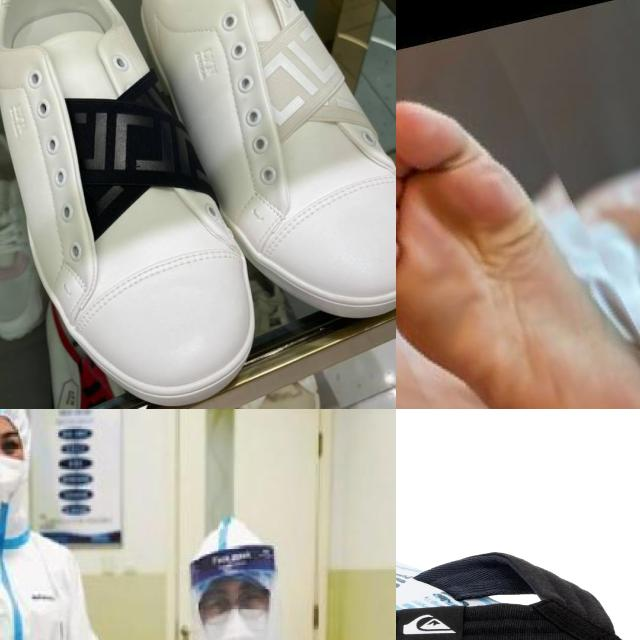Barefoots: (396, 96, 640, 409)
Sandals: (0, 0, 278, 409), (130, 0, 396, 324), (396, 533, 640, 640)
face_mask: (198, 580, 264, 640), (0, 421, 23, 529)
glasses: (194, 591, 272, 627)
head_nohelmet: (186, 517, 277, 593)
person: (118, 520, 363, 640), (0, 409, 118, 640)
